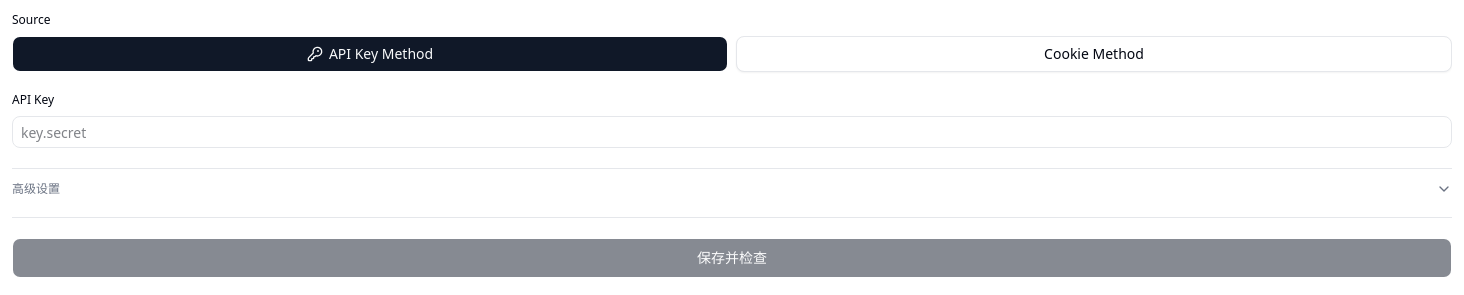
ProviderConfigFields › does not let a hidden saved credential satisfy the selected method
The width and height of the screenshot is (1464, 295).
expect the button "保存并检查" is disabled: met, box [12, 238, 1452, 278]
Click the radio button labelled "Cookie Method". click: (1094, 54)
box: [736, 36, 1452, 72]
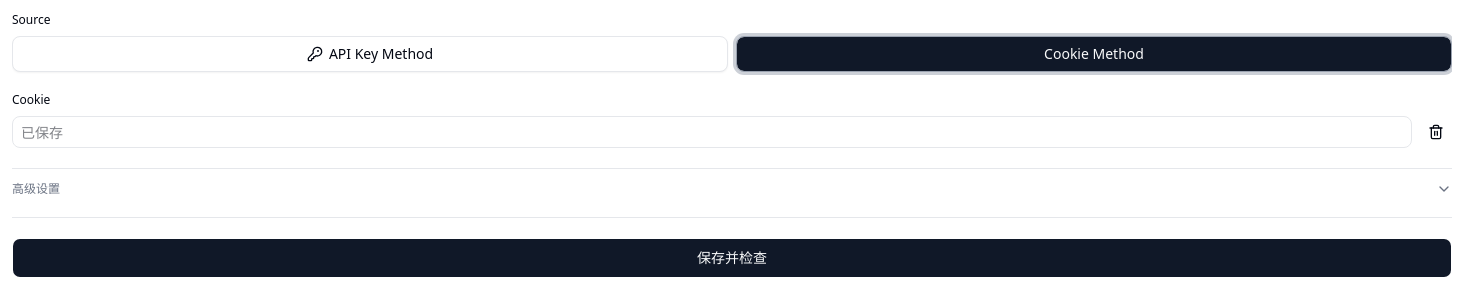
expect the button "保存并检查" is enabled: met, box [12, 238, 1452, 278]
